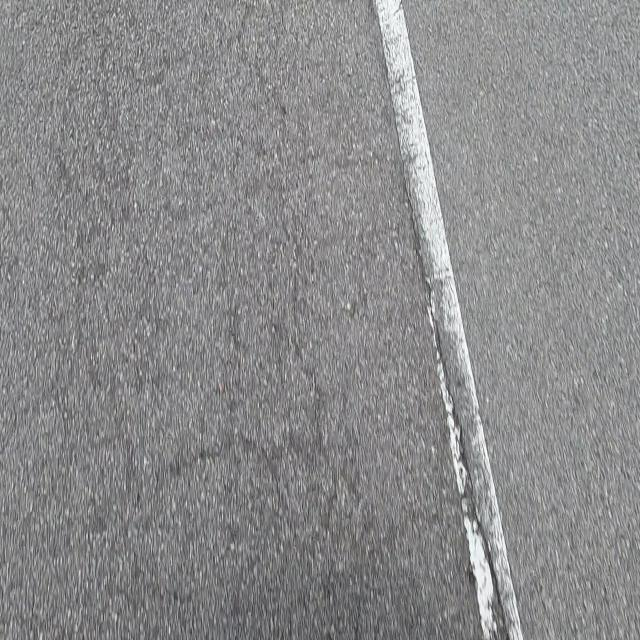Retak-Memanjang: (373, 14, 511, 640)
